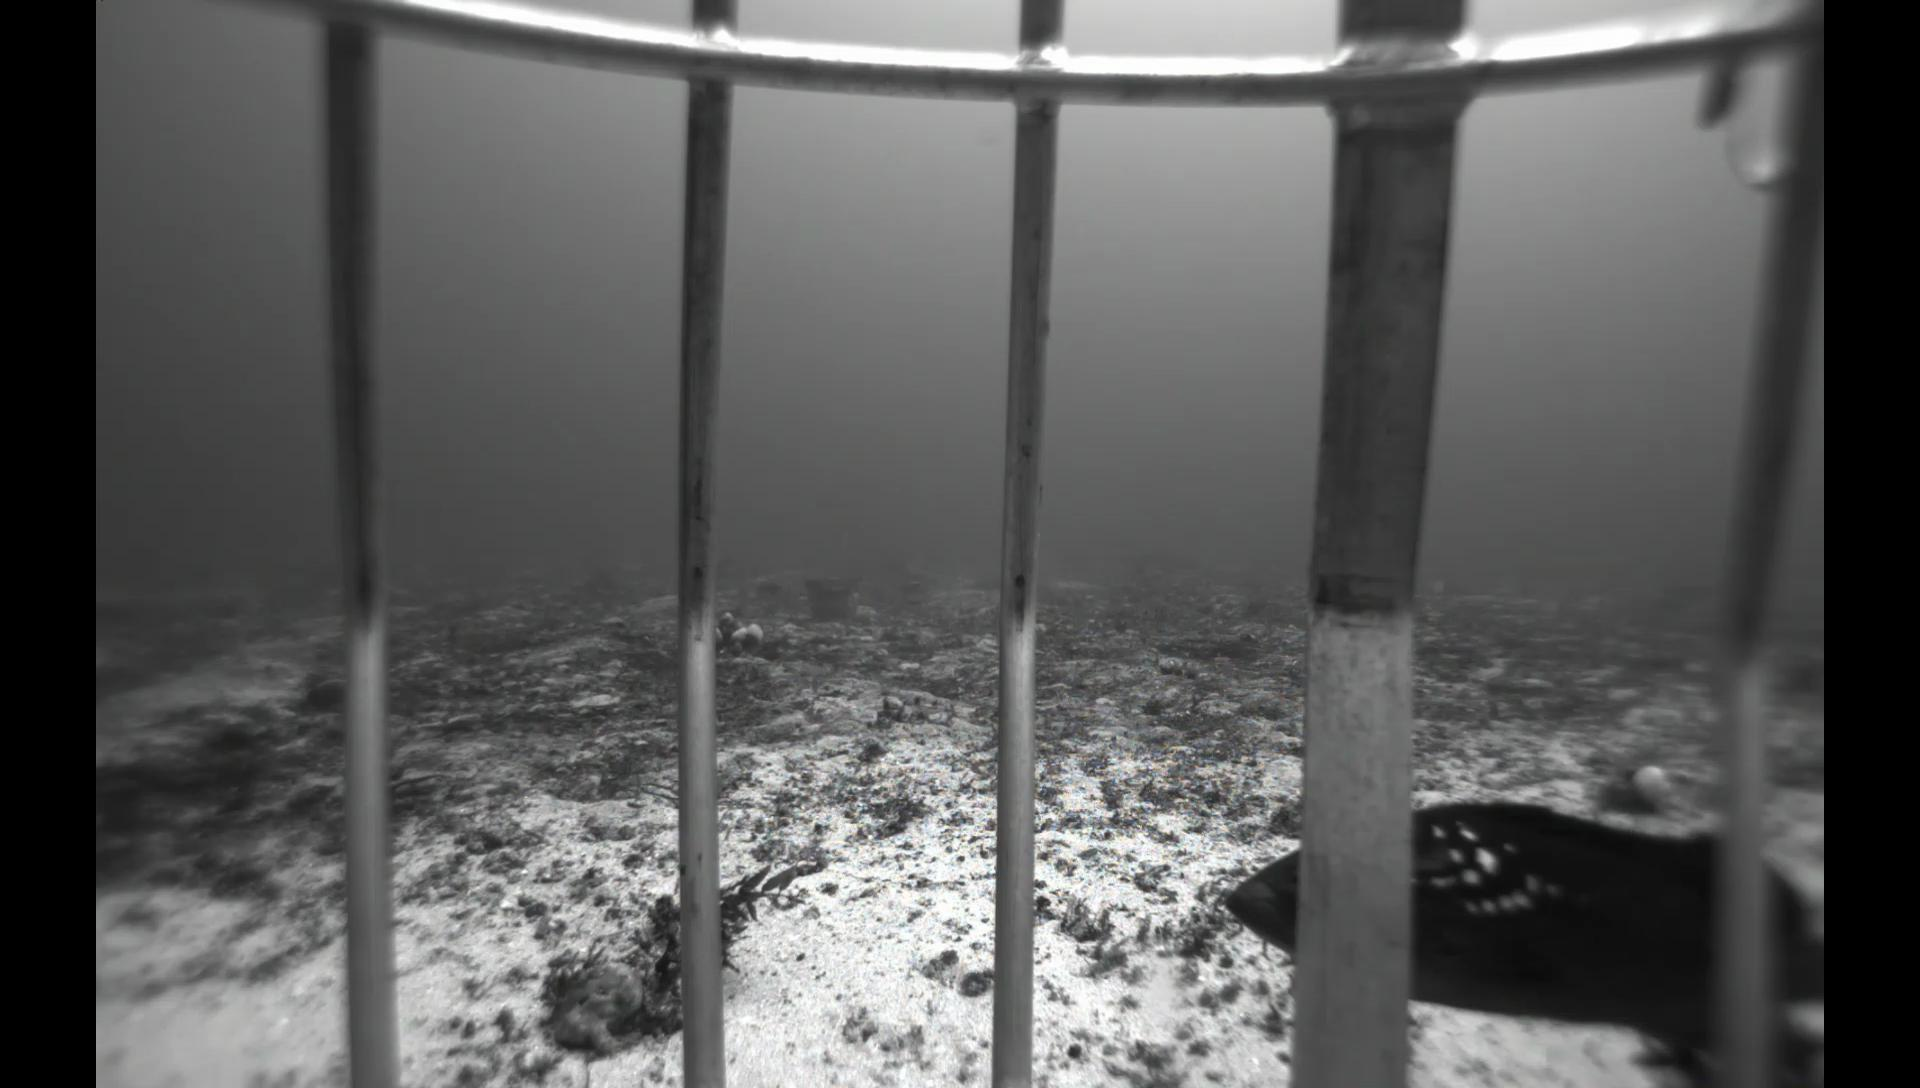CHAETODONOCELLATUS-170260307: (1530, 592, 1567, 619), (1422, 576, 1449, 599)
EPINEPHELUSMORIO-170021211: (1218, 799, 1825, 1088)
PRISTIGENYSALTA-170050401: (295, 675, 345, 717)
